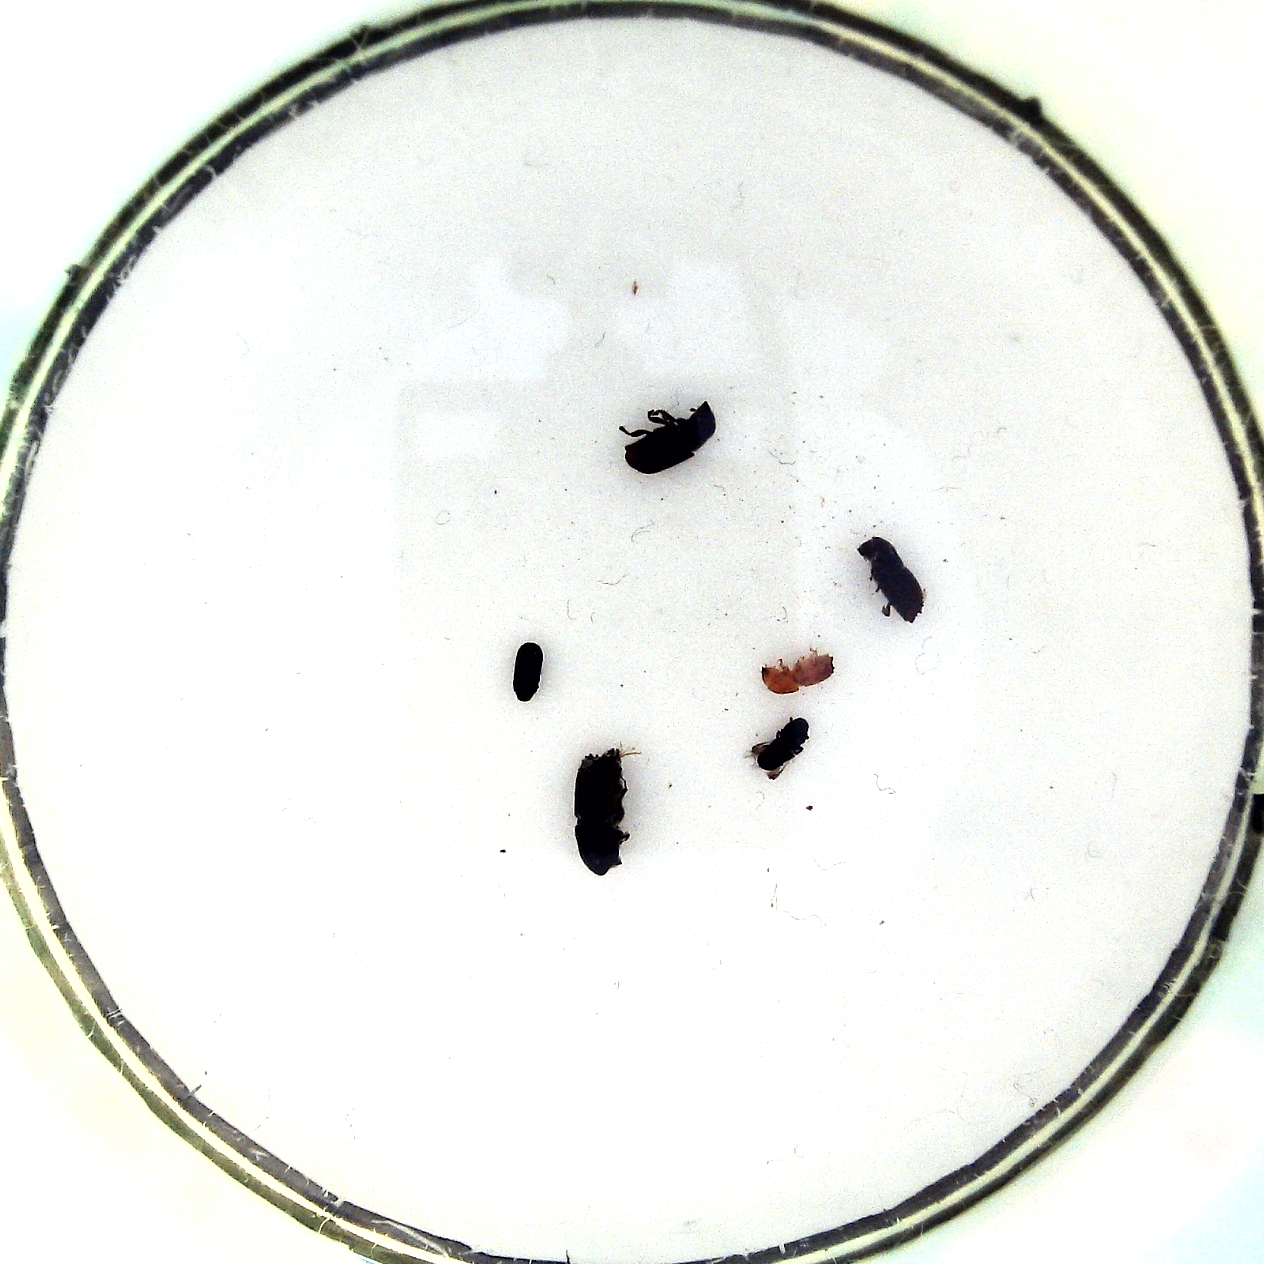Boerner: (571, 742, 639, 880)
Linnaeus: (852, 526, 929, 629)
acuminatus: (758, 646, 839, 697)
armandi: (613, 398, 727, 479)
coleoptera: (743, 713, 816, 785), (507, 633, 550, 706)
